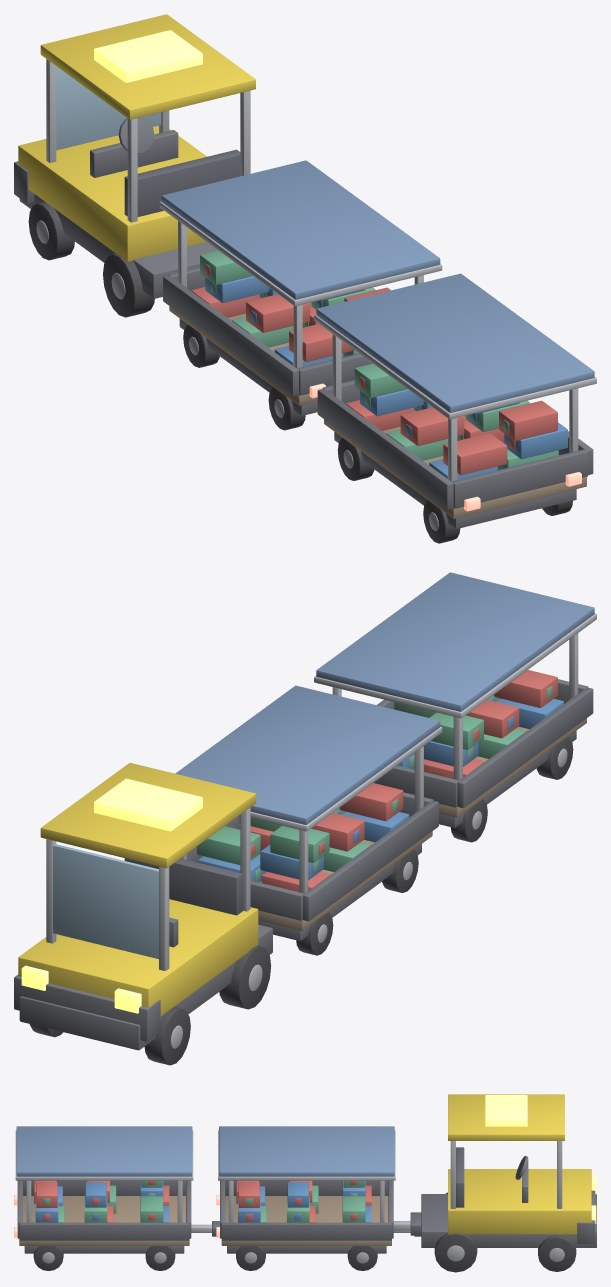
The model's file is th25_gepaeckwagen.glb.
3 views of the same model, one above another, from view 1: azimuth 30°, elevation 25°; view 2: azimuth 150°, elevation 25°; view 3: azimuth 270°, elevation 25° (orthographic). The views are drawn at different scales.
Parts seen in each view (by area): view 1: Cube.027, Cube.073, Cube.001, Cube.012, Cube.065, Cube.019, Cube.067, Cube.014, Cube.013, Cube.006, Cube, Cube.063 (+31 smaller); view 2: Cube.073, Cube.027, Cube.001, Cube.012, Cube.014, Cube, Cube.065, Cube.019, Cube.013, Cube.006, Cube.002, Cube.074 (+30 smaller); view 3: Cube.073, Cube.027, Cube.001, Cube.012, Cube.020, Cube.066, Cube.018, Cube.064, Cube, Cube.013, Cube.019, Cube.065 (+32 smaller).
Boxes of the visible parts, x1,y1,x2,y2 form: Cube.027: [161, 160, 440, 299]; Cube.073: [316, 273, 594, 412]; Cube.001: [18, 125, 206, 261]; Cube.012: [40, 14, 255, 119]; Cube.065: [317, 388, 453, 509]; Cube.019: [163, 275, 298, 396]; Cube.067: [452, 449, 588, 508]; Cube.014: [56, 66, 161, 150]; Cube.013: [94, 30, 202, 82]; Cube.006: [124, 149, 240, 216]; Cube: [19, 194, 217, 298]; Cube.063: [334, 432, 576, 528]; Cube.073: [316, 572, 594, 711]; Cube.027: [175, 685, 440, 824]; Cube.001: [18, 899, 258, 1016]; Cube.012: [40, 762, 255, 868]; Cube.014: [53, 844, 158, 958]; Cube: [19, 924, 272, 1050]; Cube.065: [457, 687, 593, 808]; Cube.019: [303, 800, 438, 921]; Cube.013: [94, 778, 202, 831]; Cube.006: [124, 858, 242, 915]; Cube.002: [14, 974, 160, 1041]; Cube.074: [314, 613, 596, 718]; Cube.073: [16, 1126, 192, 1176]; Cube.027: [219, 1126, 394, 1176]; Cube.001: [448, 1169, 591, 1234]; Cube.012: [448, 1094, 564, 1140]; Cube.020: [221, 1222, 391, 1240]; Cube.066: [19, 1222, 189, 1240]; Cube.018: [221, 1196, 391, 1245]; Cube.064: [19, 1196, 189, 1245]; Cube: [421, 1194, 596, 1247]; Cube.013: [485, 1095, 527, 1126]; Cube.019: [225, 1180, 388, 1195]; Cube.065: [23, 1180, 185, 1195].
Size of the model in its own units: 2.1 by 2.98 by 10.95.
